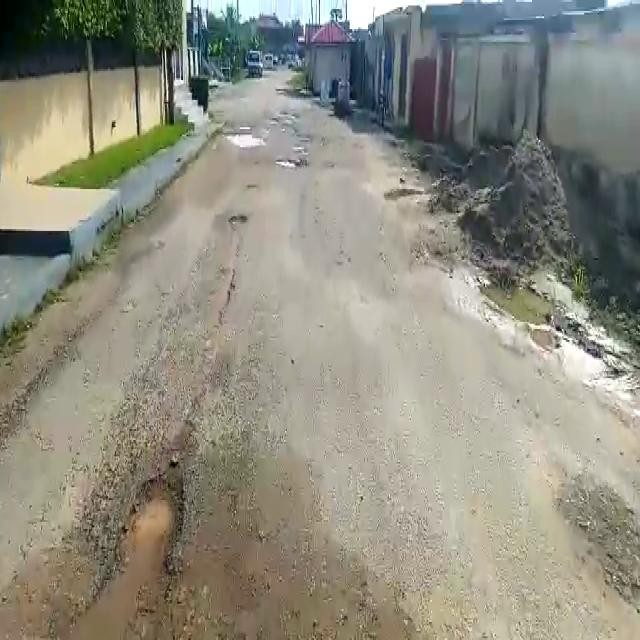Pothole: (68, 469, 188, 639), (220, 132, 265, 149), (273, 154, 306, 168)
